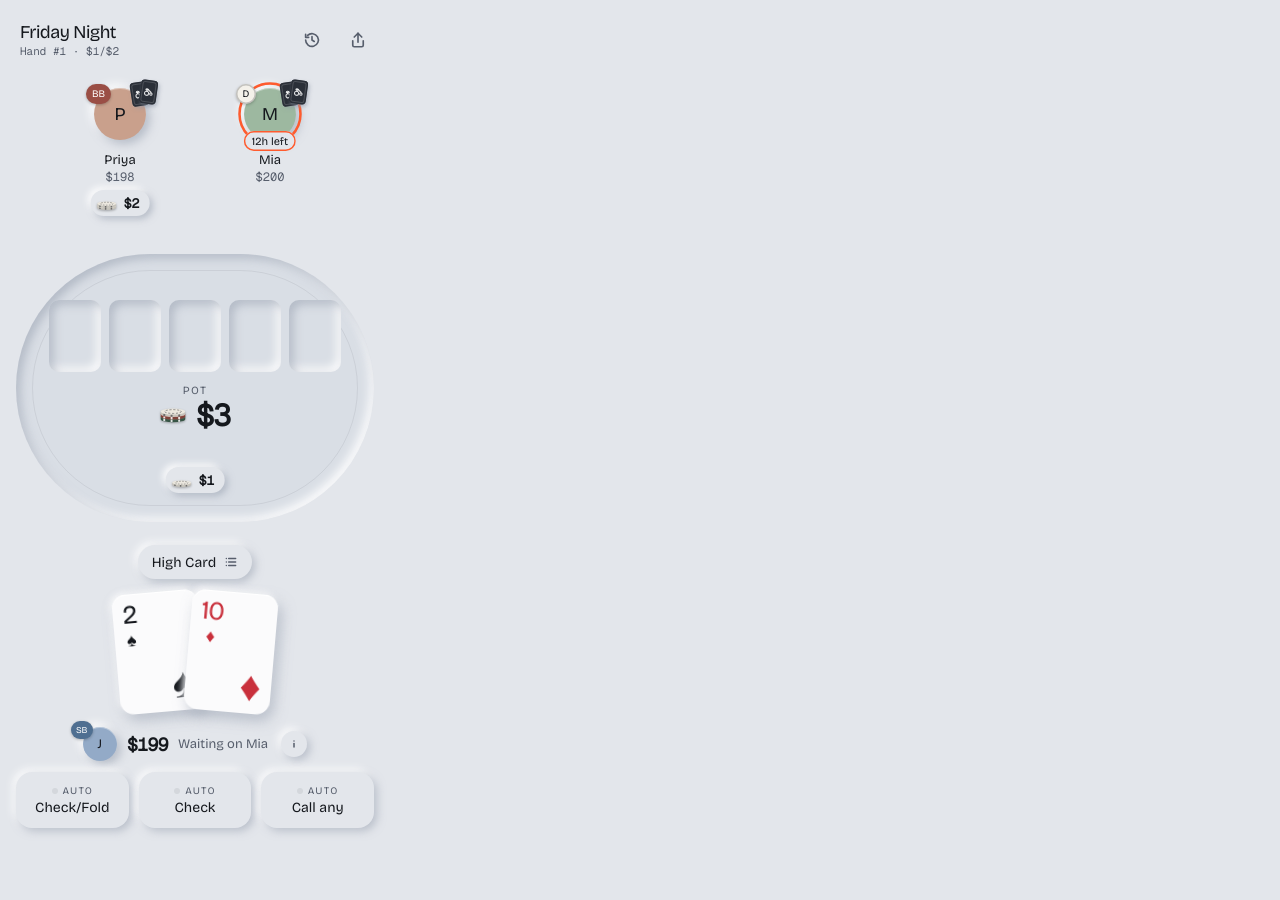
it: the table › opens the rankings from your hand name
Click the button with aria-label "Show hand rankings".
click(195, 562)  # box x1=138 y1=540 x2=252 y2=584
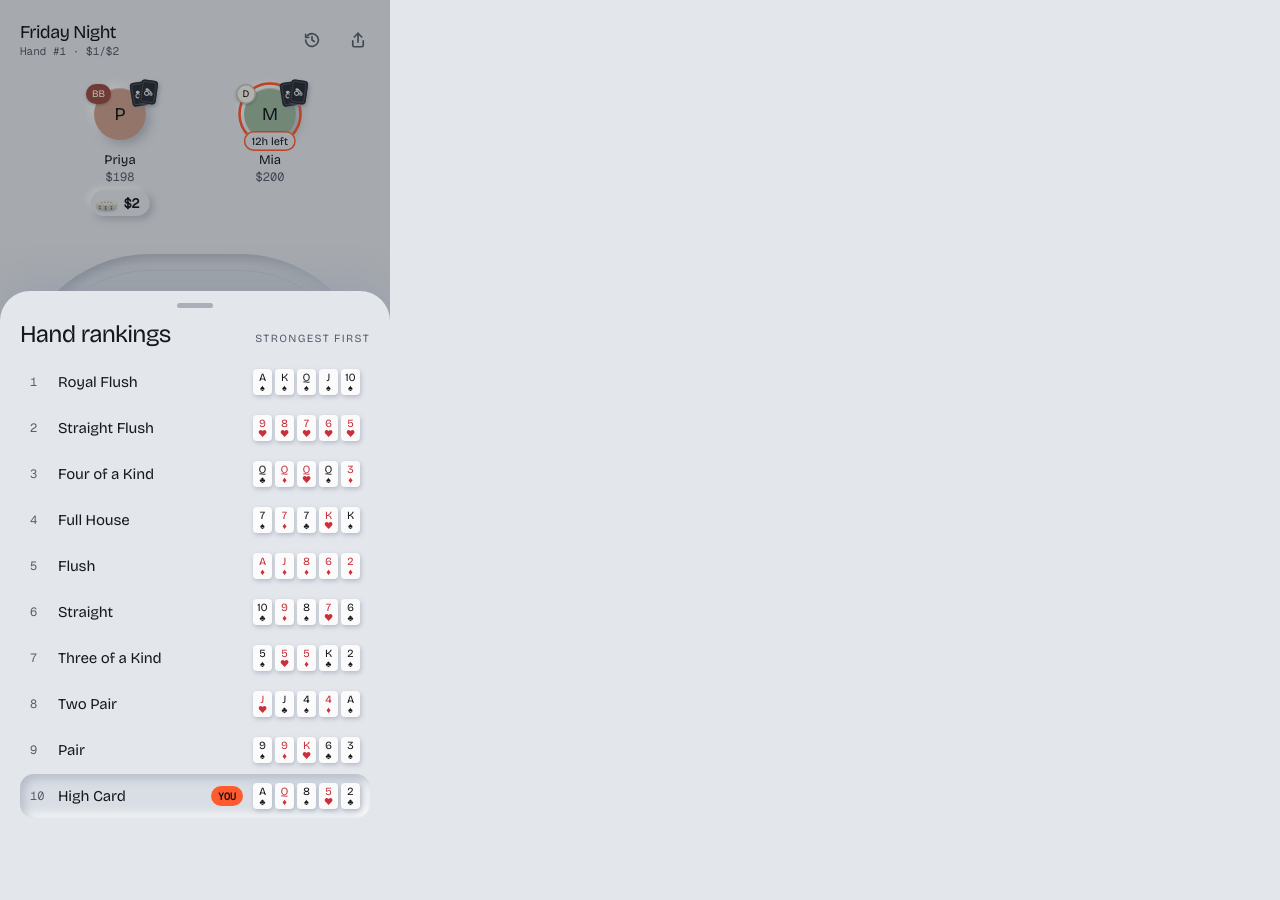
expect the dialog "Hand rankings" is shown: met, box x1=0 y1=291 x2=390 y2=844
